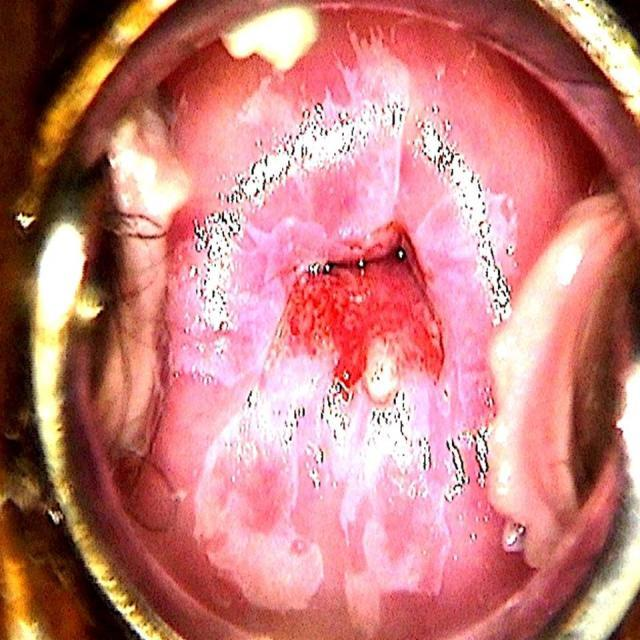cervical_lesion: (160, 78, 529, 633)
